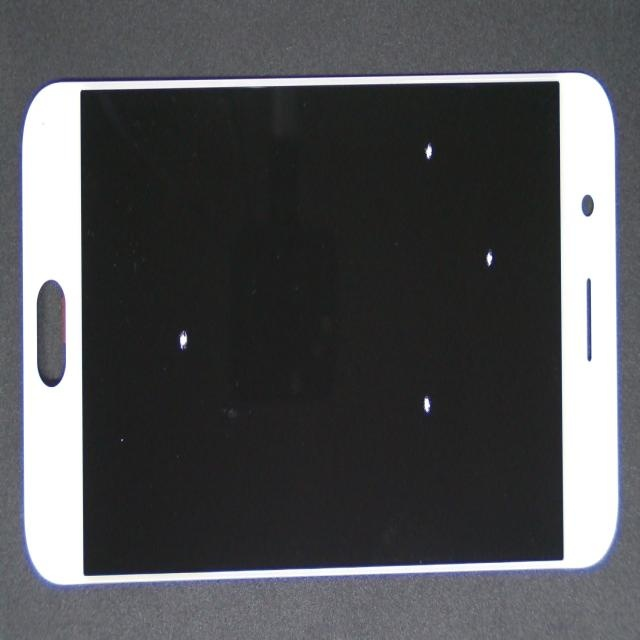stain: (217, 124, 623, 599), (227, 85, 640, 389), (208, 1, 621, 197), (101, 157, 270, 475)
